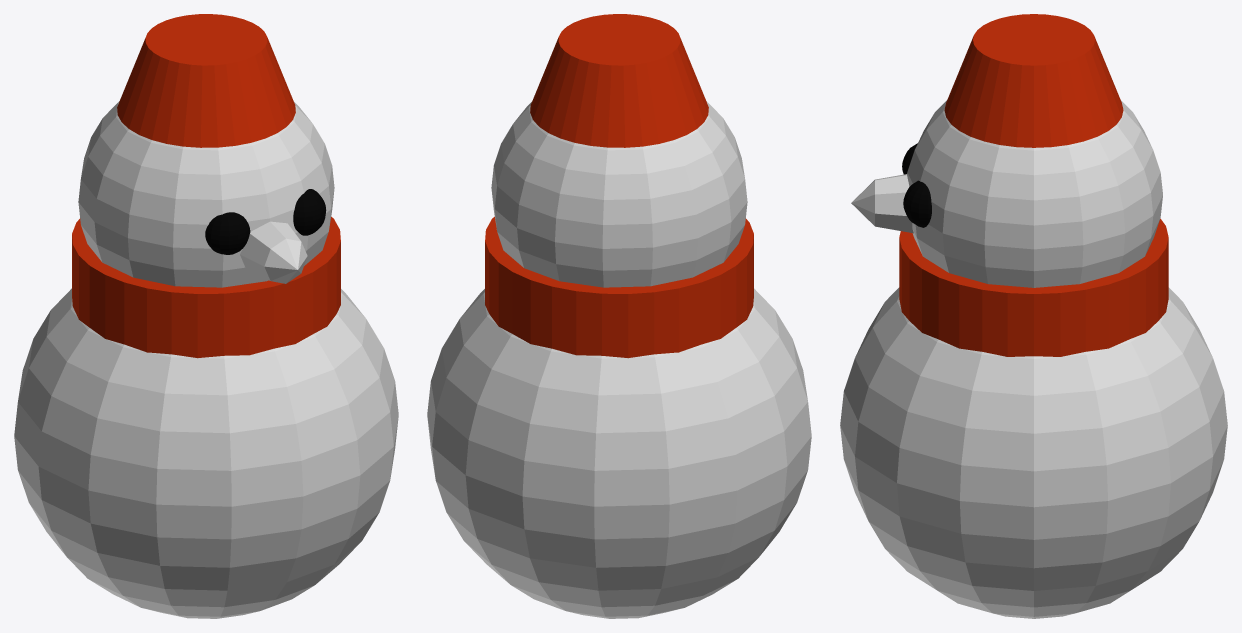
Rendered from snowman.glb.
3 views of the same model, side by side, from view 1: azimuth 30°, elevation 25°; view 2: azimuth 150°, elevation 25°; view 3: azimuth 270°, elevation 25° (orthographic).
Parts seen in each view (by area): view 1: snowman_bot, snowman_top, scarf, hat, nose, eye_right, eye_left; view 2: snowman_bot, snowman_top, scarf, hat; view 3: snowman_bot, snowman_top, scarf, hat, nose, eye_left.
Part boxes in pixels (bbox=[...]): snowman_bot: bbox=[14, 288, 398, 618]; snowman_top: bbox=[78, 101, 334, 287]; scarf: bbox=[72, 217, 340, 358]; hat: bbox=[117, 14, 295, 147]; nose: bbox=[240, 221, 307, 283]; eye_right: bbox=[205, 212, 250, 254]; eye_left: bbox=[293, 189, 326, 235]; snowman_bot: bbox=[427, 288, 811, 618]; snowman_top: bbox=[491, 101, 747, 287]; scarf: bbox=[485, 217, 753, 358]; hat: bbox=[530, 14, 708, 147]; snowman_bot: bbox=[840, 287, 1227, 618]; snowman_top: bbox=[907, 100, 1162, 287]; scarf: bbox=[899, 218, 1168, 356]; hat: bbox=[944, 14, 1123, 147]; nose: bbox=[851, 174, 913, 233]; eye_left: bbox=[903, 180, 931, 227].
Bounding box in the file's own units: 2 × 3.19 × 2.
